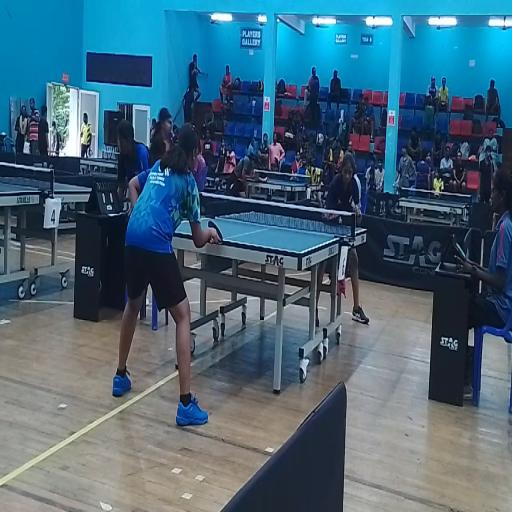ball: (338, 216, 342, 225)
